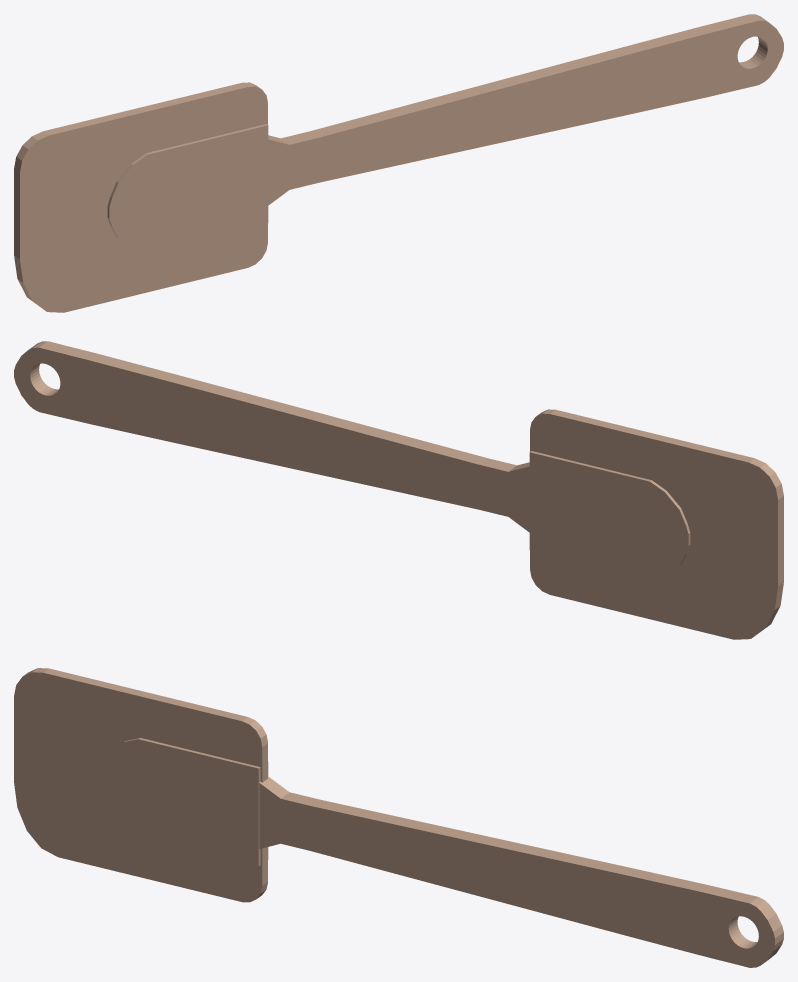
File: spatula.fbx
3 views of the same model, one above another, from view 1: azimuth 30°, elevation 25°; view 2: azimuth 150°, elevation 25°; view 3: azimuth 330°, elevation 25° (orthographic).
Parts seen in each view (by area): view 1: Cube, Cube.001, Cube.002; view 2: Cube, Cube.001, Cube.002; view 3: Cube, Cube.001, Cube.002.
Part boxes in pixels (x1,y1,x2,y2): Cube: [268, 14, 783, 205]; Cube.001: [14, 82, 267, 312]; Cube.002: [107, 124, 268, 252]; Cube: [14, 341, 529, 532]; Cube.001: [530, 409, 783, 639]; Cube.002: [529, 451, 690, 579]; Cube: [259, 776, 783, 967]; Cube.001: [14, 668, 267, 902]; Cube.002: [99, 738, 268, 866].
Bounding box in the file's own units: 445 × 101 × 9.77.
